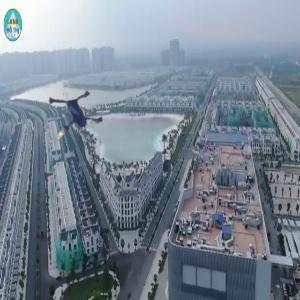drone: (31, 78, 112, 159)
